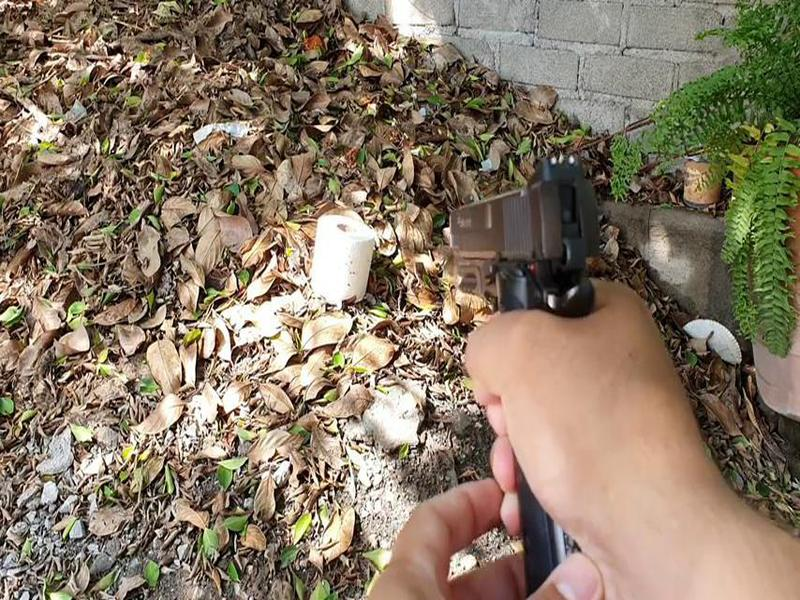Pistola: (434, 140, 638, 407)
